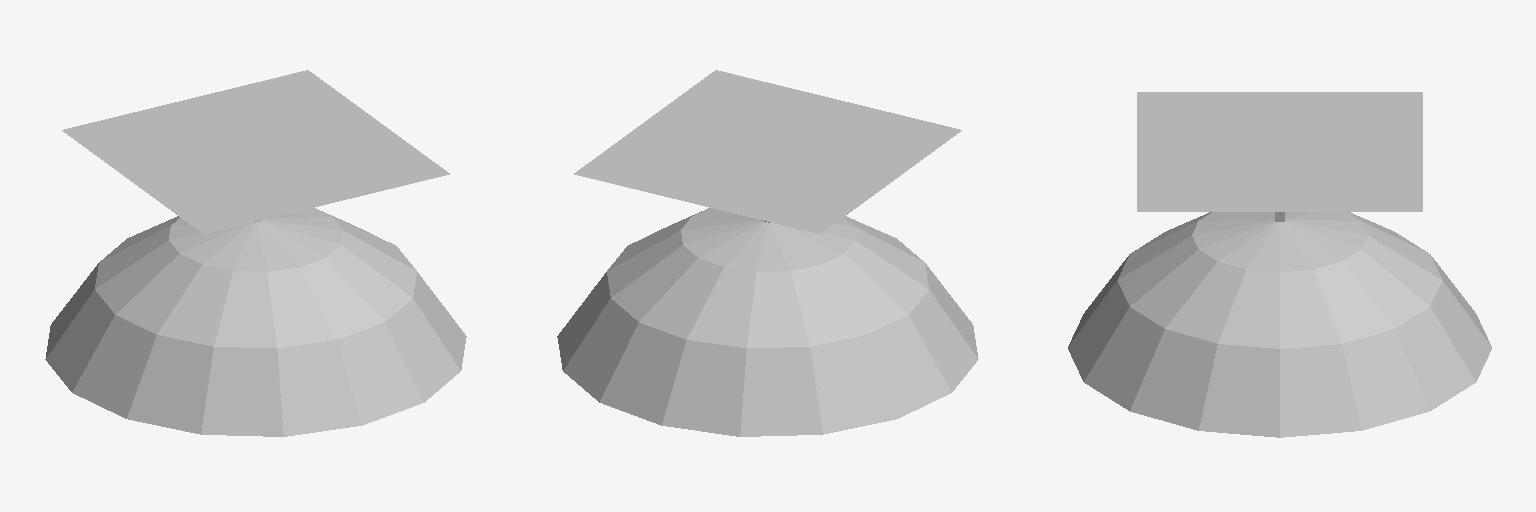
Rendered from ceilingLamp.obj.
The picture shows the model from 3 angles: view 1: azimuth 30°, elevation 25°; view 2: azimuth 150°, elevation 25°; view 3: azimuth 270°, elevation 25°; orthographic projection.
Parts seen in each view (by area): view 1: Sphere.003, Cube.025; view 2: Sphere.003, Cube.025; view 3: Sphere.003, Cube.025.
Part boxes in pixels (left/top/right/bottom): Sphere.003: left=45, top=208, right=466, bottom=436; Cube.025: left=62, top=70, right=449, bottom=233; Sphere.003: left=557, top=208, right=978, bottom=436; Cube.025: left=574, top=70, right=961, bottom=233; Sphere.003: left=1068, top=212, right=1491, bottom=437; Cube.025: left=1137, top=92, right=1422, bottom=221.
Size of the model in its own units: 1.85 by 0.9957 by 1.85.